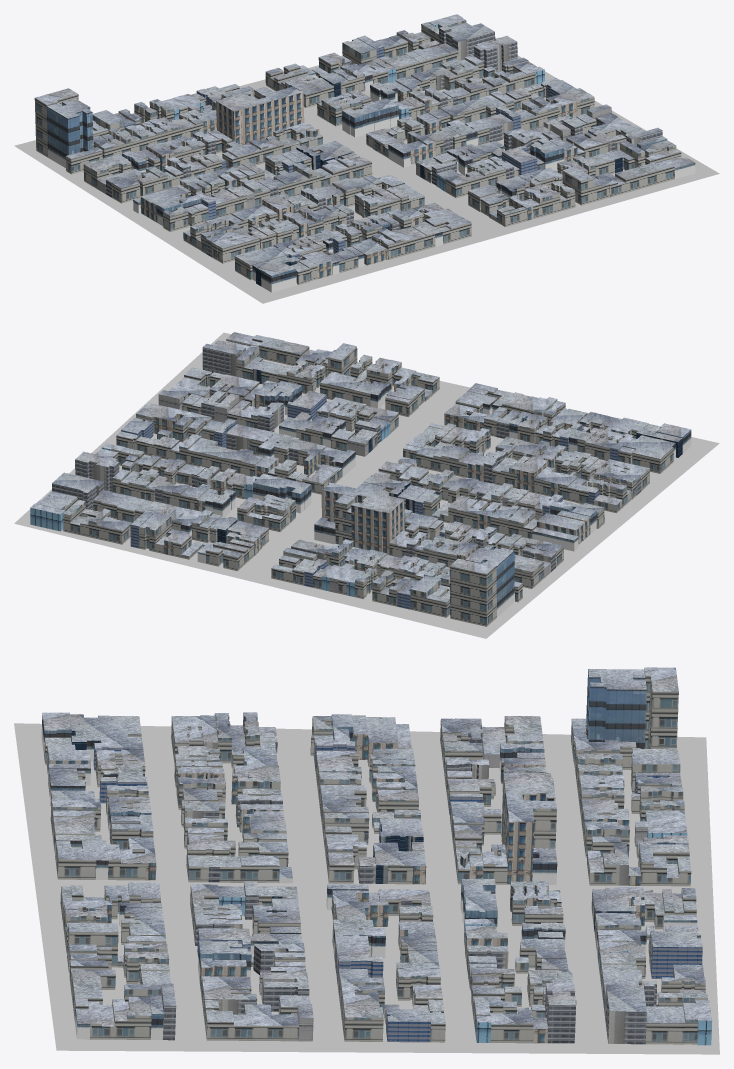
The model's file is mini_manhattan.fbx.
The picture shows the model from 3 angles, top to bottom: view 1: azimuth 30°, elevation 25°; view 2: azimuth 150°, elevation 25°; view 3: azimuth 270°, elevation 25°; orthographic projection. The views are drawn at different scales.
Visible parts, largest first — view 1: Areas:building, EXPORT_GOOGLE_SAT_WM; view 2: Areas:building, EXPORT_GOOGLE_SAT_WM; view 3: Areas:building, EXPORT_GOOGLE_SAT_WM.
Part boxes in pixels (left/top/right/bottom): Areas:building: left=34, top=14, right=695, bottom=292; EXPORT_GOOGLE_SAT_WM: left=14, top=55, right=719, bottom=303; Areas:building: left=30, top=332, right=691, bottom=626; EXPORT_GOOGLE_SAT_WM: left=14, top=332, right=719, bottom=638; Areas:building: left=41, top=667, right=712, bottom=1045; EXPORT_GOOGLE_SAT_WM: left=14, top=723, right=719, bottom=1054.
Bounding box in the file's own units: 60412 × 6477 × 52941.
